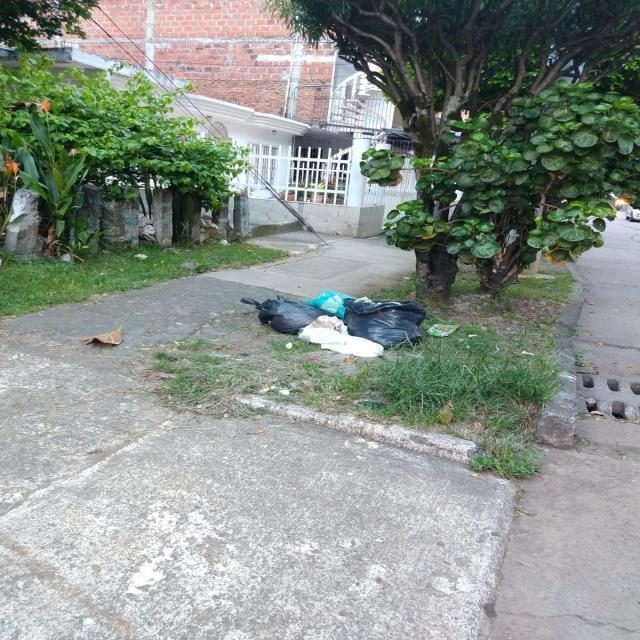Trashbag: (342, 286, 436, 356), (241, 297, 323, 336)
